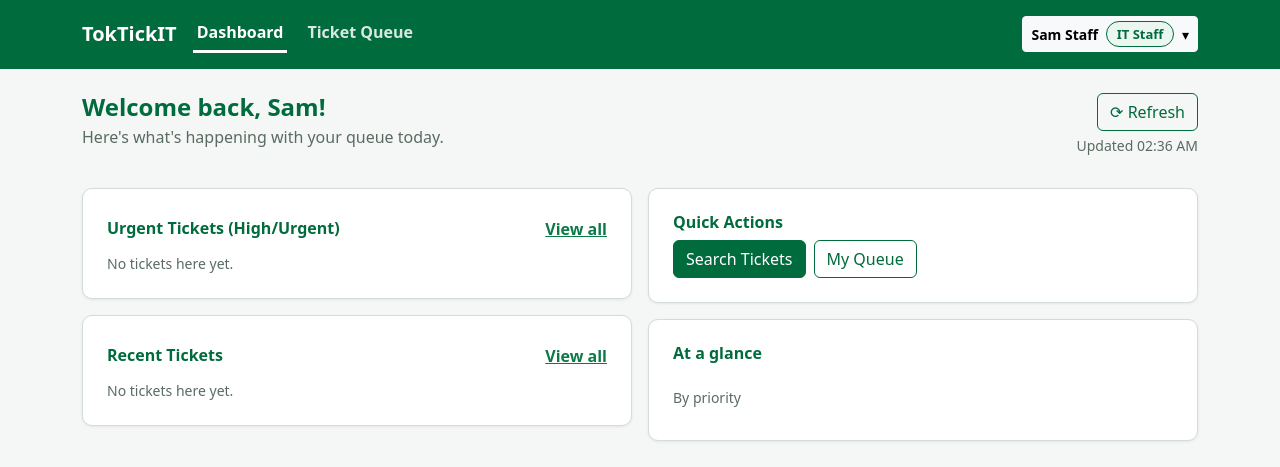
Scenario: Role navigation after sign-in (AC-18) › lands IT Staff on the Dashboard, with the Ticket Queue reachable from nav
Expected: the text with test id "signed-in-user" reads "Sam Staff", [1032, 25, 1098, 44]
Expected: the heading "Welcome back, Sam!" is shown, [82, 90, 326, 123]
Click the button "Ticket Queue" at point(360, 34), box [303, 16, 417, 53]
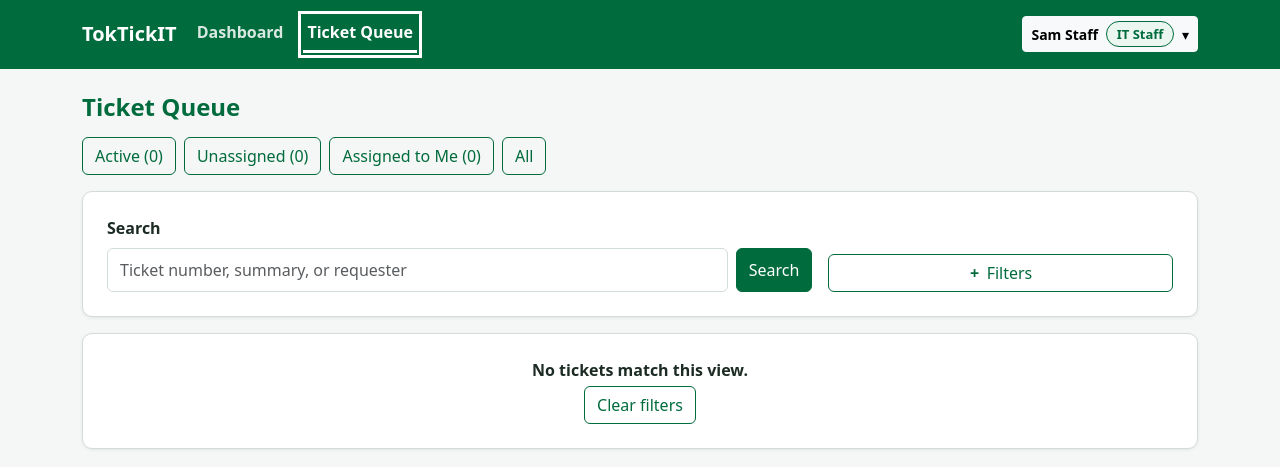
Expected: the heading "Ticket Queue" is shown, [82, 90, 240, 123]
